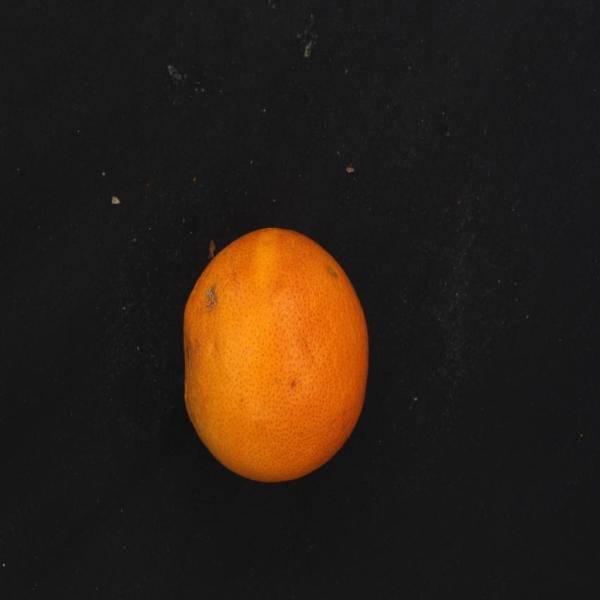Sana: (178, 216, 372, 492)
